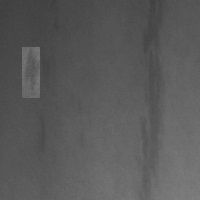inclusion: (136, 1, 171, 199), (22, 47, 40, 98), (38, 52, 59, 86), (33, 115, 51, 152)
